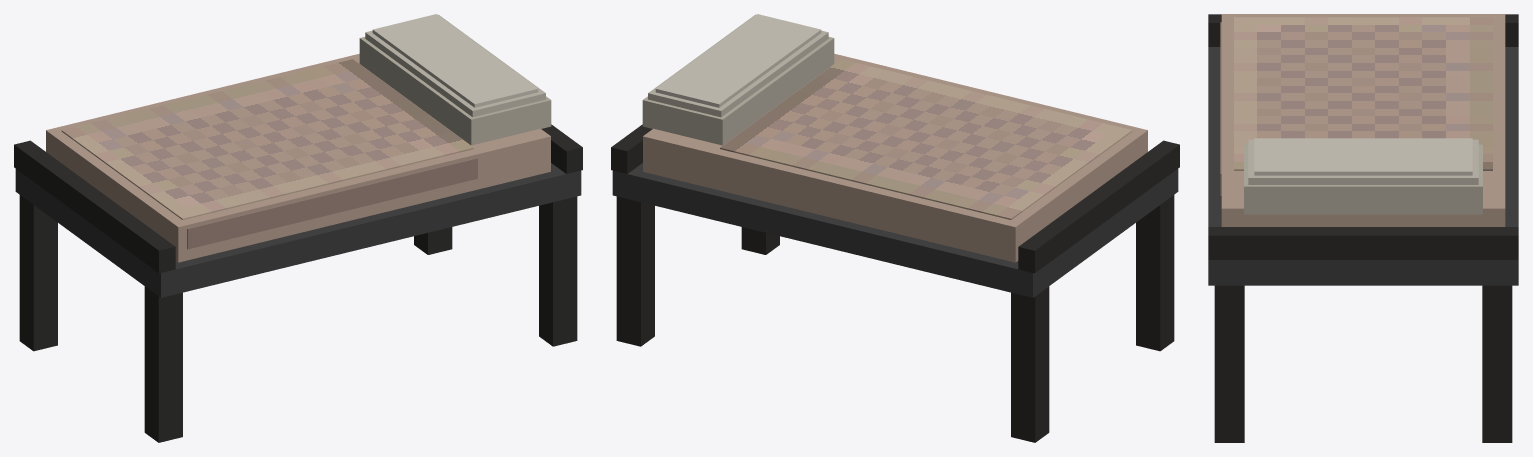
Rendered from CMU3DRMCBedDingy.glb.
The picture shows the model from 3 angles, left to right: view 1: azimuth 30°, elevation 25°; view 2: azimuth 150°, elevation 25°; view 3: azimuth 270°, elevation 25°; orthographic projection. The views are drawn at different scales.
Visible parts, largest first — view 1: Blanket source pixels, frame leg (×4), bed frame, mattress, frame end lip (×2), pillow face, blanket front fold, pillow, pillow upper cushion; view 2: Blanket source pixels, mattress, frame leg (×4), bed frame, frame end lip (×2), pillow face, pillow, pillow upper cushion; view 3: Blanket source pixels, bed frame, frame end lip (×2), mattress, frame leg (×2), pillow face, pillow, pillow upper cushion, blanket front fold.
Boxes of the visible parts, <box> form: Blanket source pixels: <box>61,59,473,219</box>; frame leg (×4): <box>19,195,577,442</box>; bed frame: <box>15,163,581,297</box>; mattress: <box>46,53,550,262</box>; frame end lip (×2): <box>14,124,582,273</box>; pillow face: <box>372,14,538,107</box>; blanket front fold: <box>187,158,477,249</box>; pillow: <box>359,37,551,145</box>; pillow upper cushion: <box>365,14,545,117</box>; Blanket source pixels: <box>720,59,1132,219</box>; mattress: <box>643,53,1147,262</box>; frame leg (×4): <box>616,195,1174,442</box>; bed frame: <box>612,163,1178,297</box>; frame end lip (×2): <box>611,124,1179,273</box>; pillow face: <box>655,14,821,107</box>; pillow: <box>642,37,834,145</box>; pillow upper cushion: <box>648,14,828,117</box>; Blanket source pixels: <box>1234,17,1492,170</box>; bed frame: <box>1208,47,1518,285</box>; frame end lip (×2): <box>1208,14,1518,259</box>; mattress: <box>1221,14,1505,226</box>; frame leg (×2): <box>1214,285,1512,442</box>; pillow face: <box>1254,138,1472,175</box>; pillow: <box>1244,144,1482,214</box>; pillow upper cushion: <box>1248,139,1478,184</box>; blanket front fold: <box>1220,22,1221,195</box>.
Size of the model in its own units: 0.978 by 0.537 by 0.58.
Materials: 8 (1 with a texture image).
